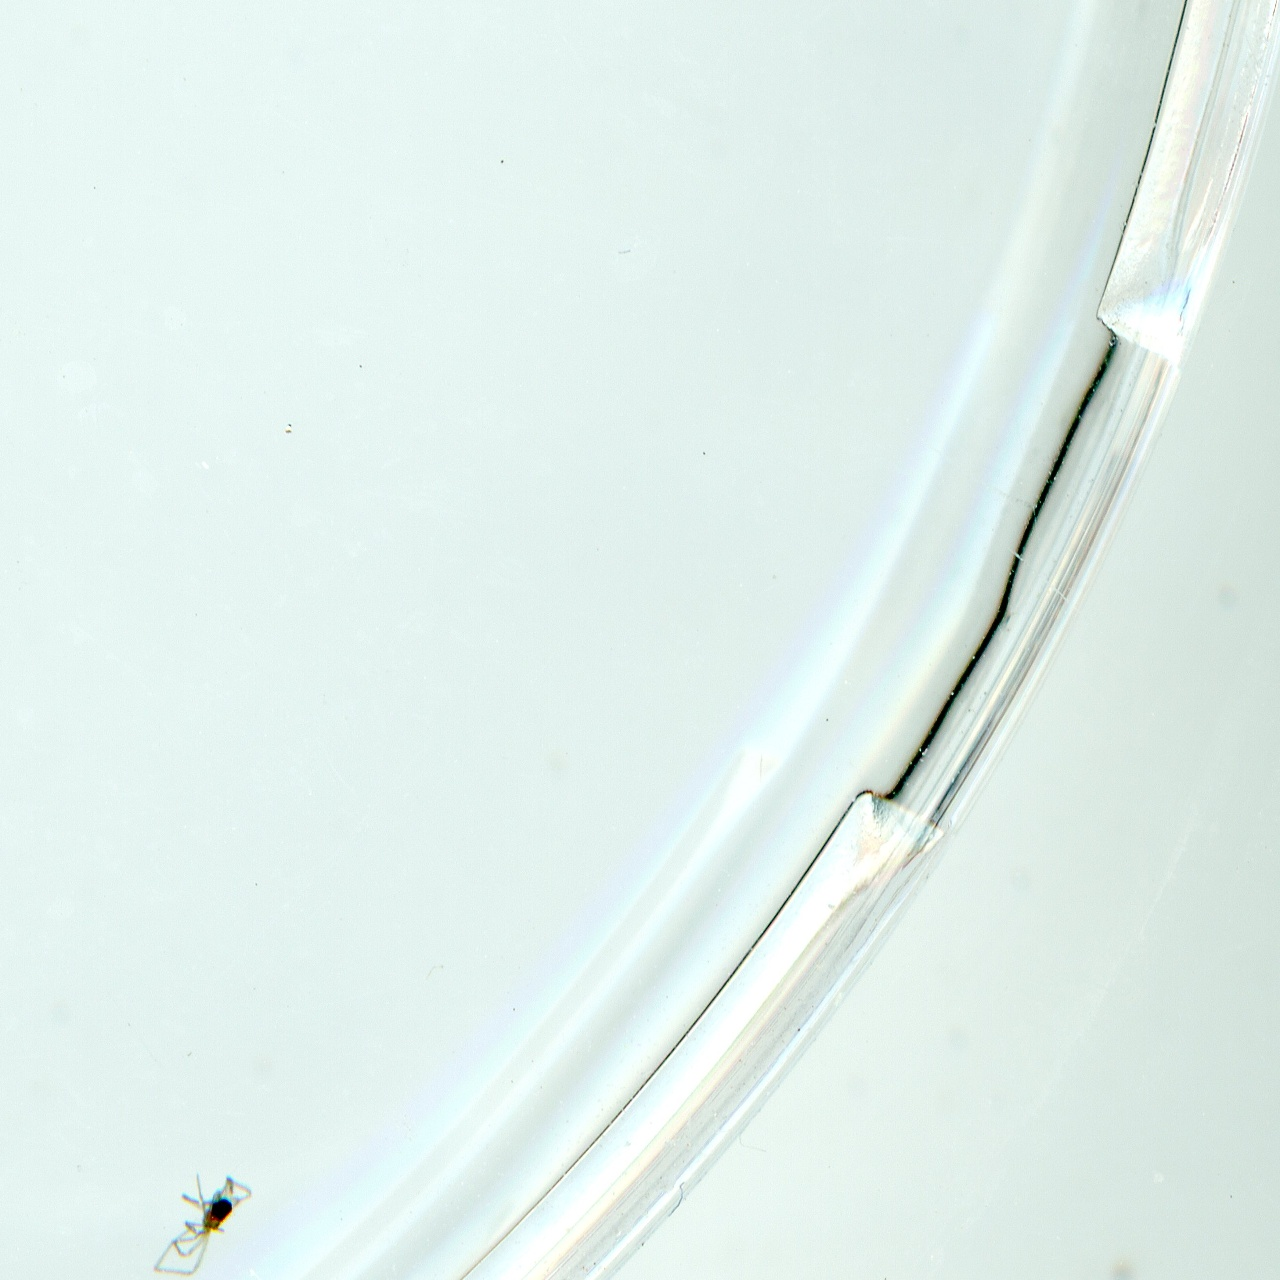arthropod: (135, 1153, 260, 1280)
